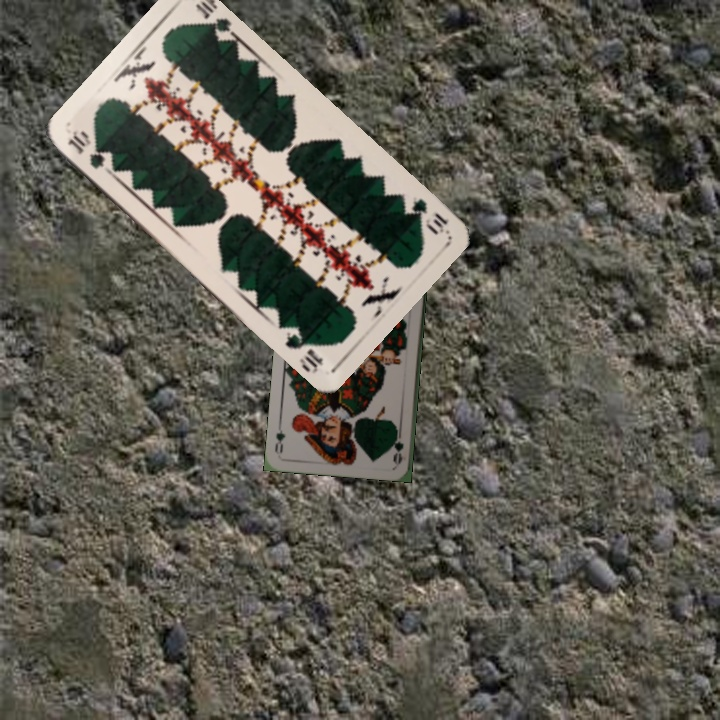G10: (63, 127, 116, 175), (407, 194, 451, 238)
GO: (389, 424, 406, 465)
